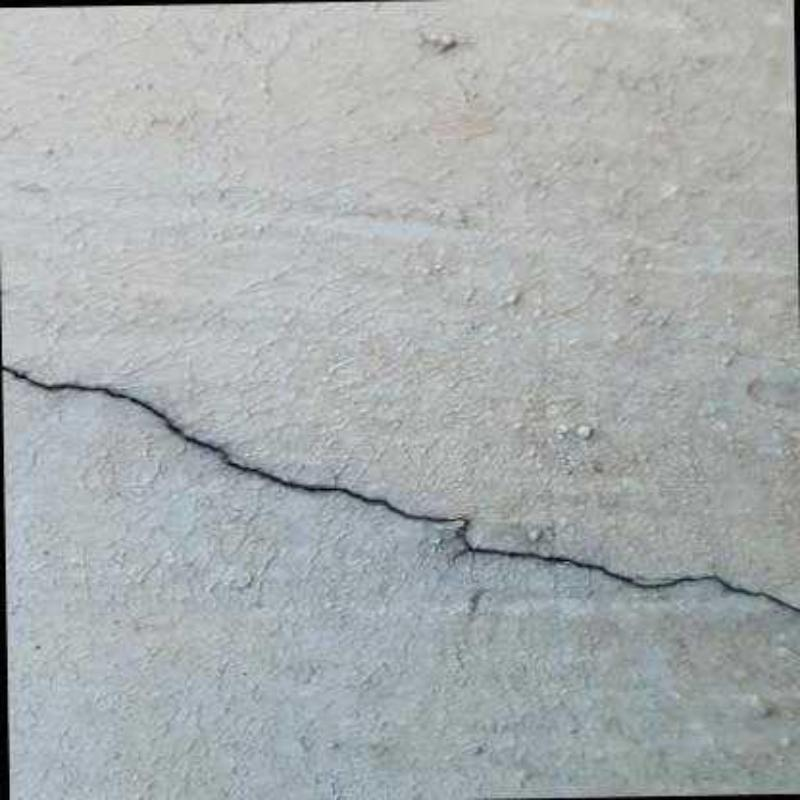pothole: (2, 367, 800, 611)
